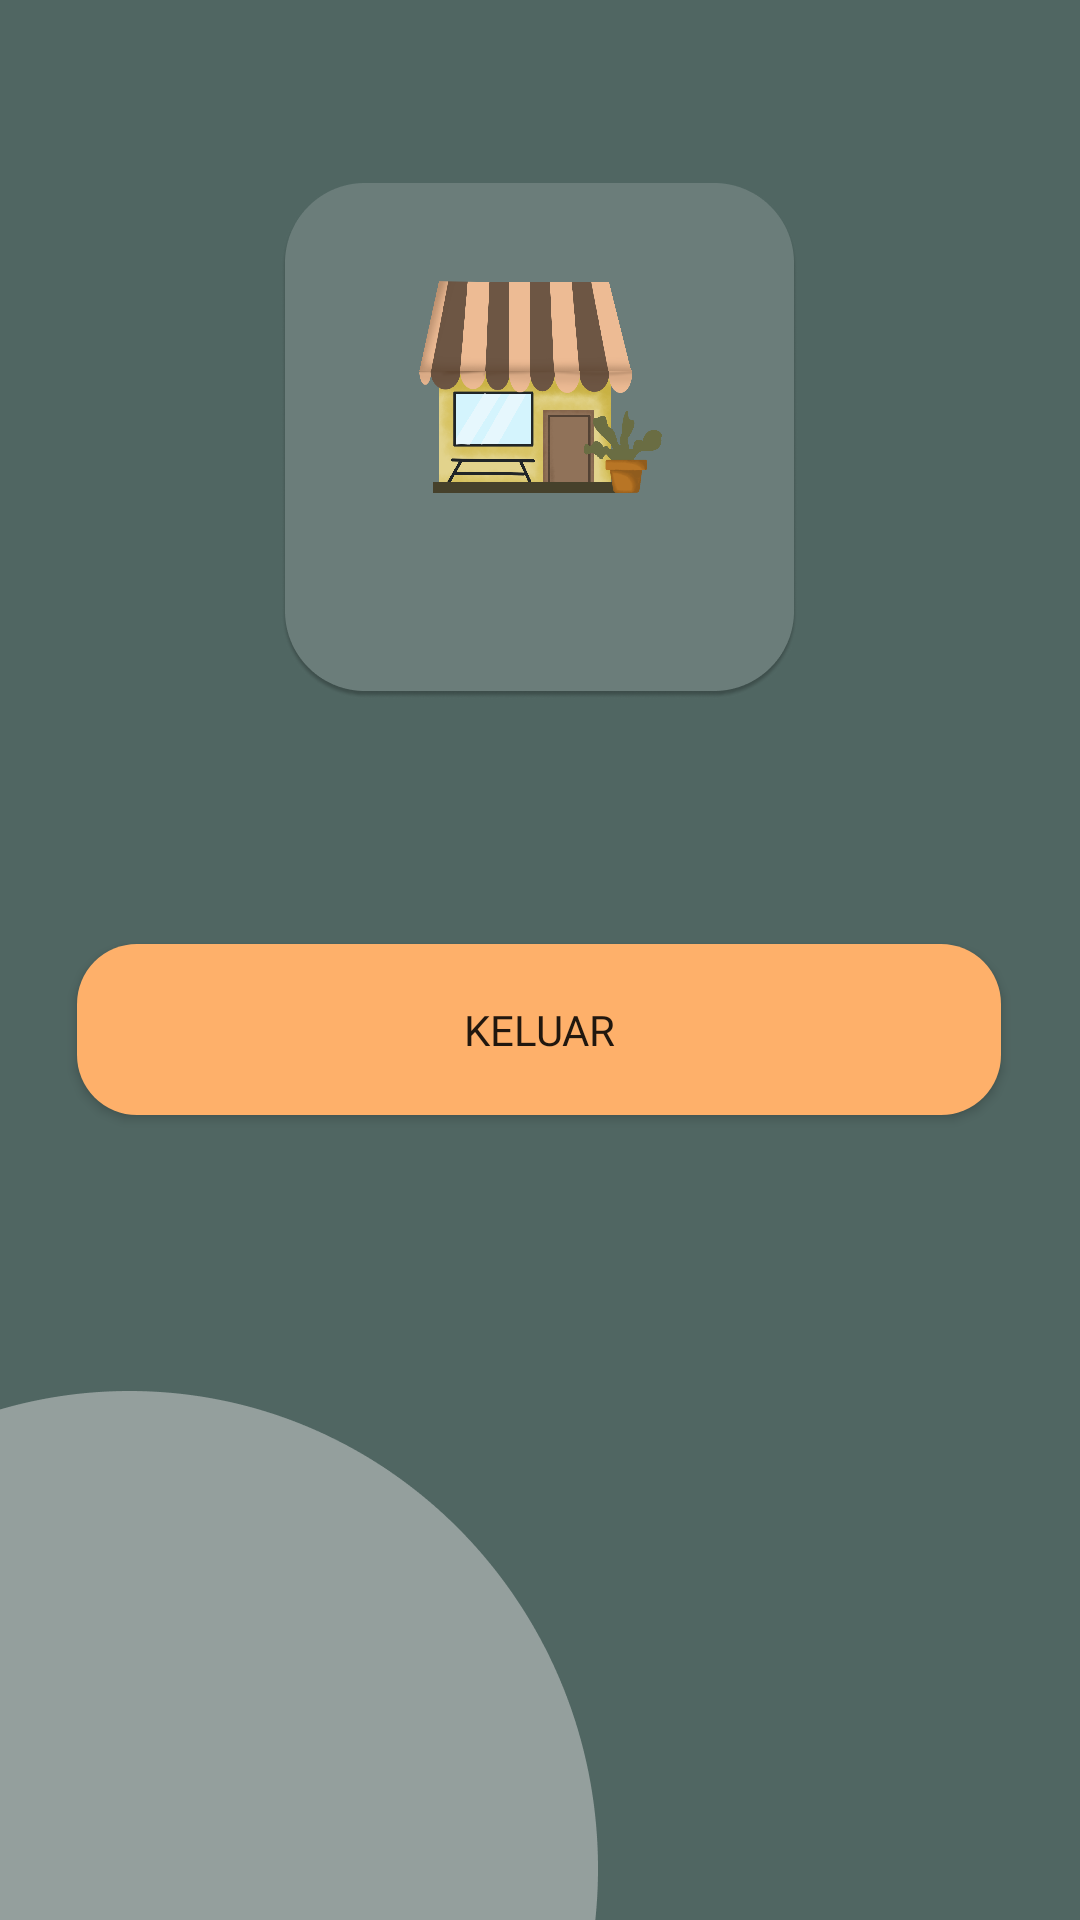

Icons on this 1080px×1920px Android screen, each with the point to tap as (x=x, y=y):
toko: (x=540, y=387)
